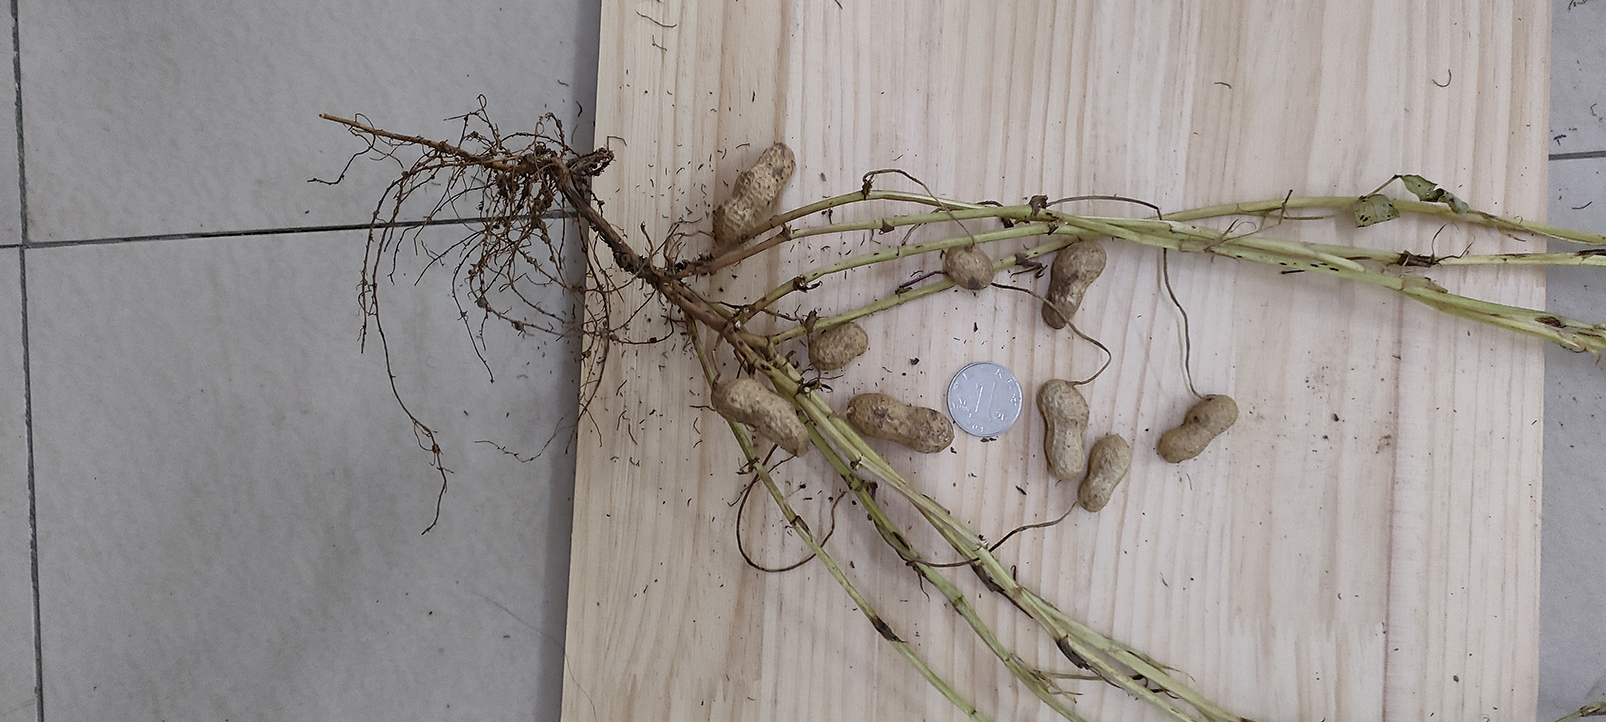h: (711, 142, 797, 245), (710, 376, 811, 458), (848, 395, 955, 452), (1157, 394, 1238, 462), (1038, 377, 1090, 479), (1079, 433, 1131, 513), (806, 320, 870, 370), (942, 244, 995, 291)
l: (1041, 239, 1109, 331)
